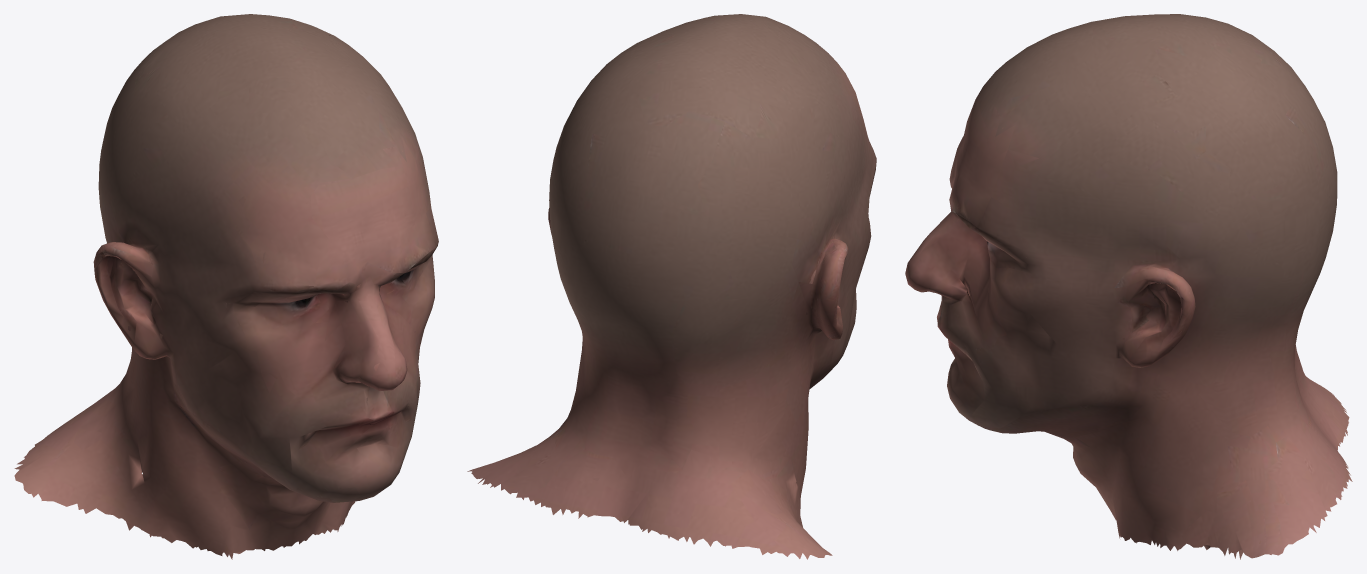
The model's file is head_m2.glb.
3 renders of one model, left to right at view 1: azimuth 30°, elevation 25°; view 2: azimuth 150°, elevation 25°; view 3: azimuth 270°, elevation 25°, orthographic. The views are drawn at different scales.
Parts seen in each view (by area): view 1: Head; view 2: Head; view 3: Head.
Part boxes in pixels (x1,y1,x2,y2): Head: [14, 14, 438, 559]; Head: [467, 14, 876, 559]; Head: [905, 14, 1352, 559].
Bounding box in the file's own units: 1.08 × 1.4 × 1.16.
1 material, 1 textured.
